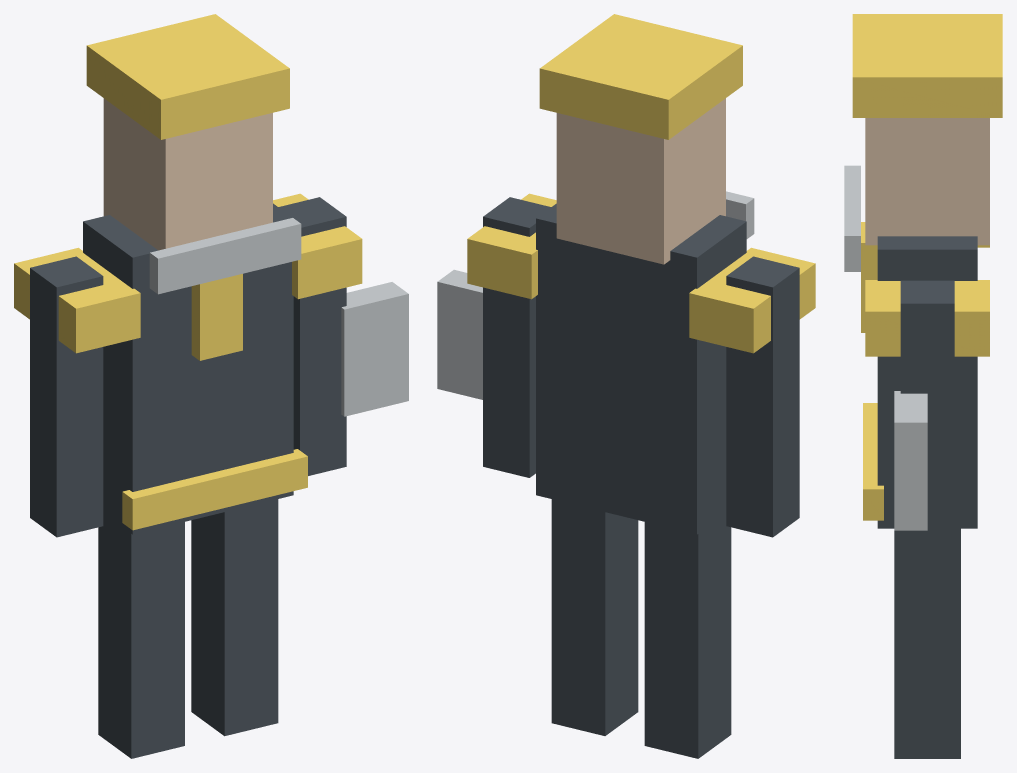
The model's file is 09_mirek_cragwarden_diver_under_zephyr.glb.
3 views of the same model, side by side, from view 1: azimuth 30°, elevation 25°; view 2: azimuth 150°, elevation 25°; view 3: azimuth 270°, elevation 25° (orthographic).
Parts seen in each view (by area): view 1: Mirek Cragwarden, Diver under Zephyr; view 2: Mirek Cragwarden, Diver under Zephyr; view 3: Mirek Cragwarden, Diver under Zephyr.
Boxes of the visible parts, x1,y1,x2,y2 form: Mirek Cragwarden, Diver under Zephyr: [14, 14, 408, 758]; Mirek Cragwarden, Diver under Zephyr: [437, 14, 815, 758]; Mirek Cragwarden, Diver under Zephyr: [844, 14, 1002, 758].
Bounding box in the file's own units: 0.9252 × 1.7 × 0.3606.
